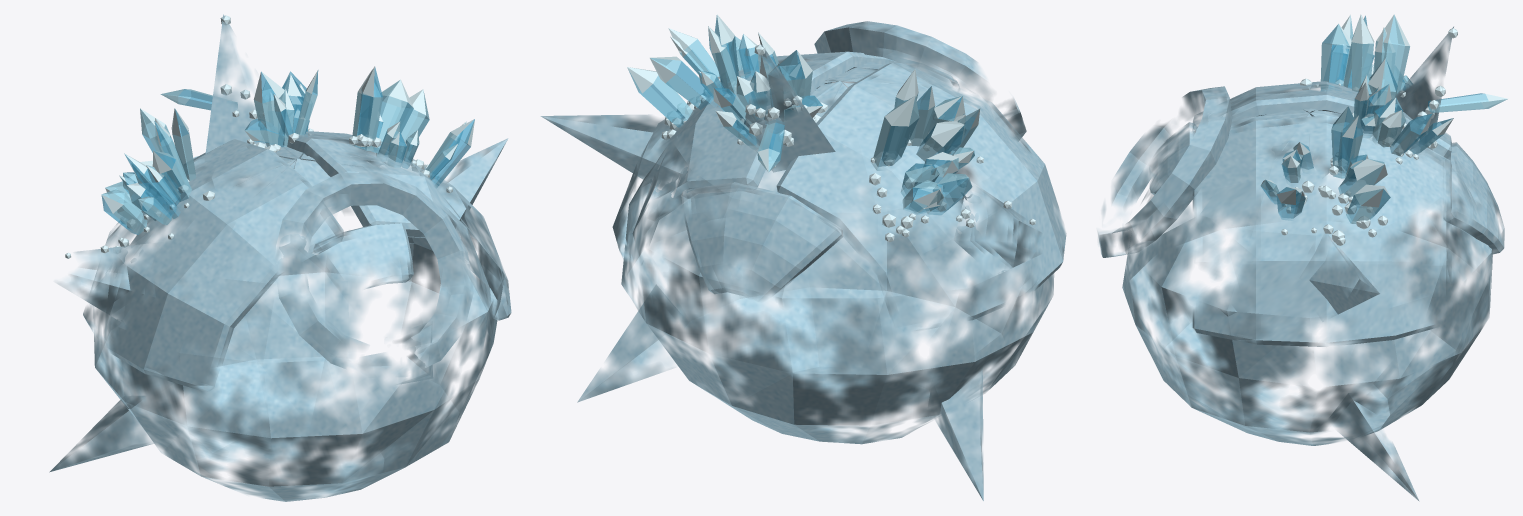
The model's file is boss.glb.
The picture shows the model from 3 angles, left to right: view 1: azimuth 30°, elevation 25°; view 2: azimuth 150°, elevation 25°; view 3: azimuth 270°, elevation 25°; orthographic projection. The views are drawn at different scales.
Visible parts, largest first — view 1: FrostCoat, AttachedIce; view 2: FrostCoat, AttachedIce; view 3: FrostCoat, AttachedIce.
Part boxes in pixels (<box>): FrostCoat: <box>49,14,511,501</box>; AttachedIce: <box>65,15,474,258</box>; FrostCoat: <box>540,21,1066,500</box>; AttachedIce: <box>627,14,1035,242</box>; FrostCoat: <box>1097,26,1504,501</box>; AttachedIce: <box>1260,14,1508,245</box>.
Size of the model in its own units: 1.01 by 0.7933 by 0.7545.
4 materials, 1 textured.
